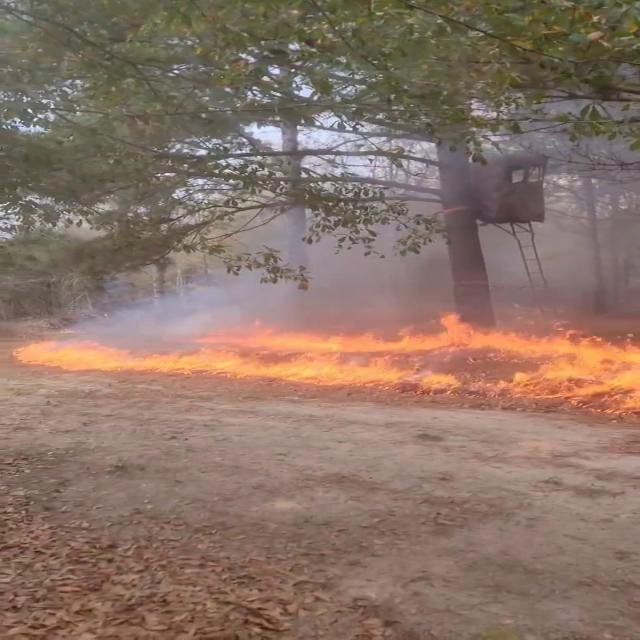Fire: (12, 305, 639, 394)
Smoke: (89, 183, 640, 333)
